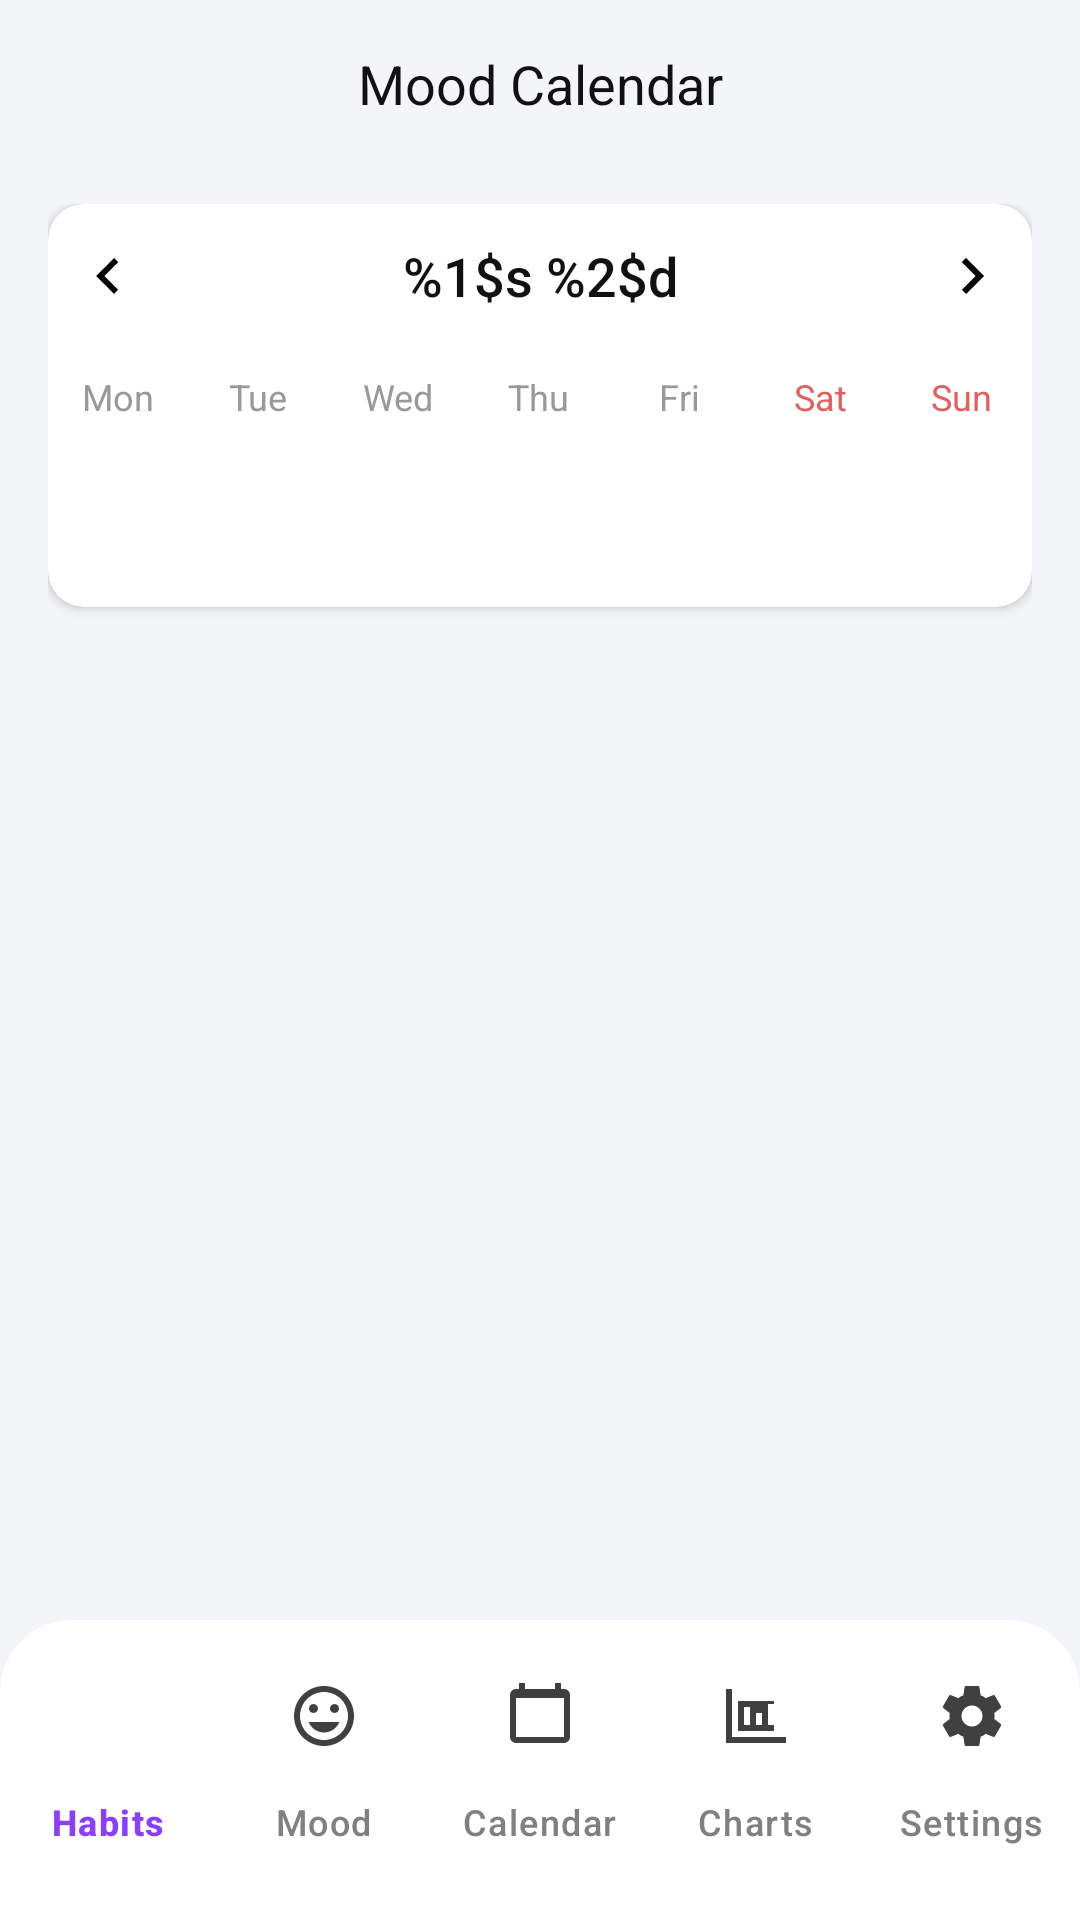

Screen size 1080 x 1920. Icon name, then its box in pixels as rect(x1, y1, x2, y2):
Next month: rect(962, 258, 984, 294)
Previous month: rect(96, 258, 118, 294)
